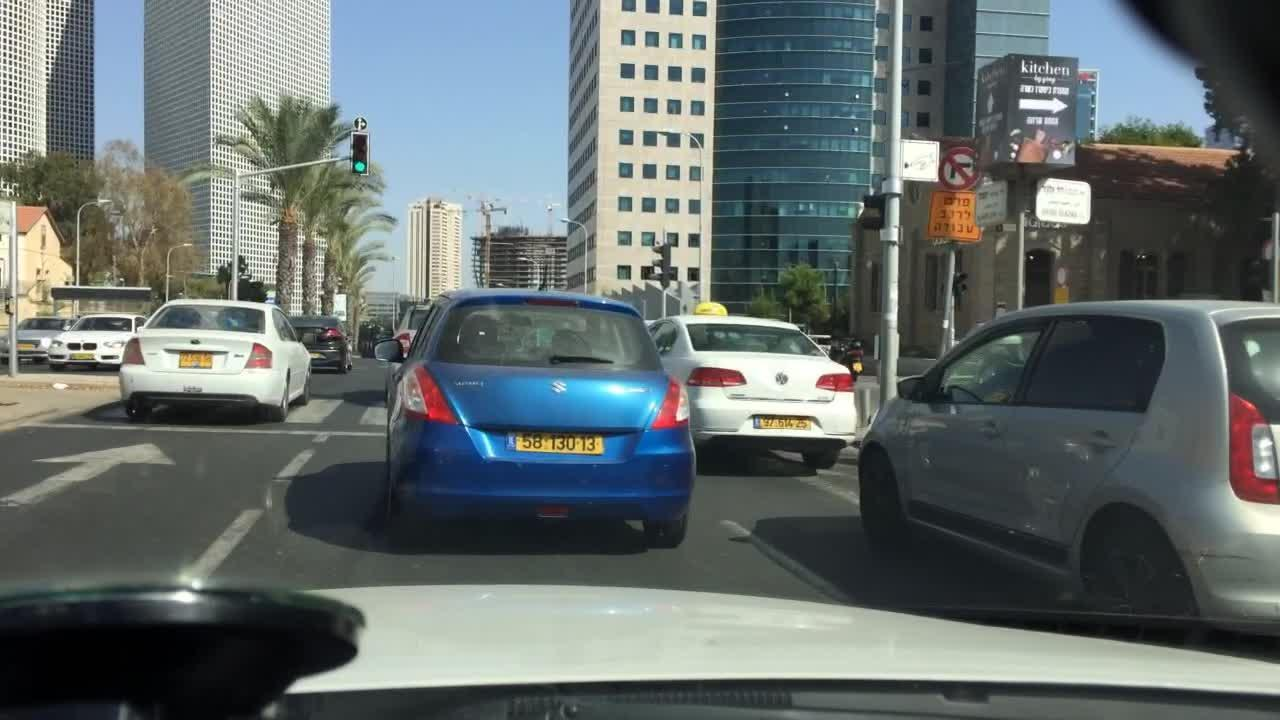suzuki: (549, 377, 569, 399)
